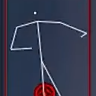hacks_3: (4, 1, 91, 96)
